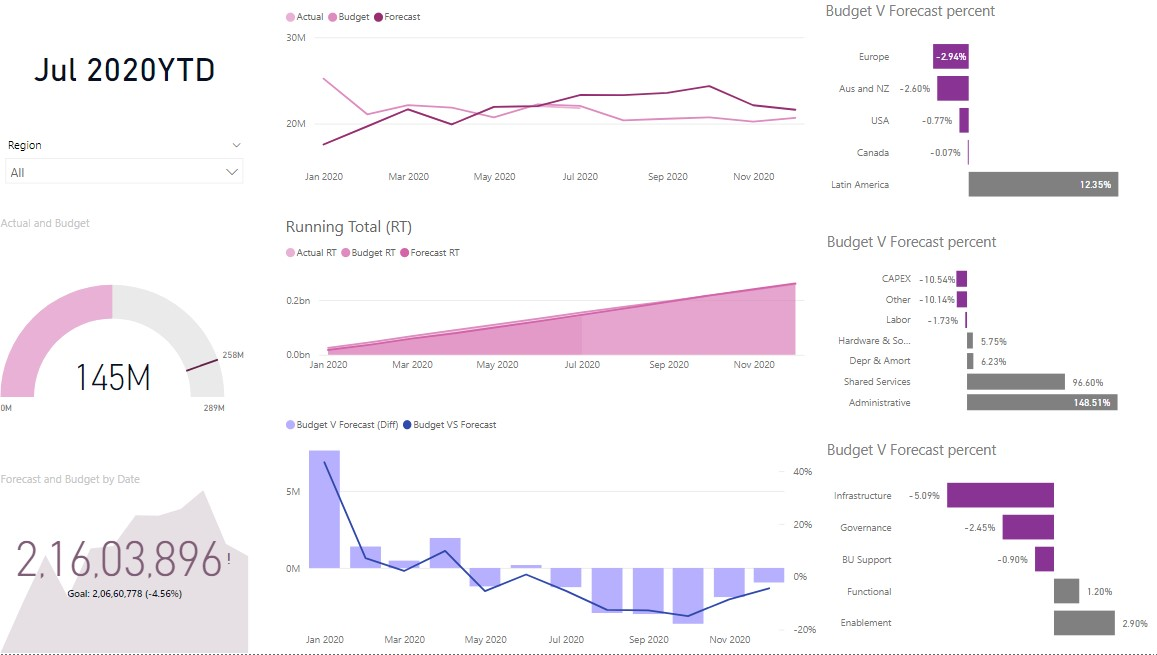

This screenshot's page, from the dashboard's own definition file:
{"tool":"powerbi","page":{"name":"Headline","canvas":[1280,720],"ordinal":0},"visuals":[{"type":"gauge","title":"Actual and Budget","fields":{"Y":["Sum(Actuals.Actual)"],"TargetValue":["Sum(Budget.Budget)"]},"box":[0,236.2,282.9,281.5],"z":0},{"type":"kpi","fields":{"TrendLine":["Calender.Date"],"Indicator":["Sum(Forecast.Forecast)"],"Goal":["Sum(Budget.Budget)"]},"box":[0,517.8,282.9,204.6],"z":1000},{"type":"lineChart","fields":{"Category":["Calender.Date.Variation.Date Hierarchy.Year","Calender.Date.Variation.Date Hierarchy.Quarter","Calender.Date.Variation.Date Hierarchy.Month"],"Y":["Sum(Actuals.Actual)","Sum(Budget.Budget)","Sum(Forecast.Forecast)"]},"box":[313.5,0,593.9,211.7],"z":2000},{"type":"areaChart","title":"Running Total (RT)","fields":{"Y":["Actuals.Actual RT","Budget.Budget RT","Forecast.Forecast RT"],"Category":["Calender.Date.Variation.Date Hierarchy.Year","Calender.Date.Variation.Date Hierarchy.Quarter","Calender.Date.Variation.Date Hierarchy.Month","Calender.Date.Variation.Date Hierarchy.Day"]},"box":[313.5,236.5,593.9,181.5],"z":3000},{"type":"lineClusteredColumnComboChart","fields":{"Category":["Calender.Date"],"Y2":["Budget.Budget VS Forecast"],"Y":["Budget.Budget V Forecast (Diff)"]},"box":[313.5,448.2,593.9,272.2],"z":4000},{"type":"clusteredBarChart","title":"Budget V Forecast percent","fields":{"Category":["Regions.Region"],"Y":["Budget.Budget VS Forecast"]},"box":[907.4,0,372.6,236.5],"z":5000},{"type":"clusteredBarChart","title":"Budget V Forecast percent","fields":{"Category":["CostElements.Cost Element Group"],"Y":["Budget.Budget VS Forecast"]},"box":[908.8,254.4,371.2,211.7],"z":6000},{"type":"clusteredBarChart","title":"Budget V Forecast percent","fields":{"Category":["Departments.IT Area"],"Y":["Budget.Budget VS Forecast"]},"box":[908.8,482.6,371.2,236.5],"z":7000},{"type":"slicer","fields":{"Values":["Regions.Region"]},"box":[0,145.4,282.3,65.9],"z":8000},{"type":"card","fields":{"Values":["Actuals.YTD Month"]},"box":[0,0,283.2,145.7],"z":9000}]}

Visuals, with their boxes in screenshot pixels (x1, y1, x2, y2), scaled from the page's 1280x720 canvas onto the 1157x655 screenshot:
"Actual and Budget" gauge: BBox(0, 215, 256, 471)
kpi - Calender.Date x Sum(Forecast.Forecast): BBox(0, 471, 256, 654)
lineChart - Calender.Date.Variation.Date Hierarchy.Year x Calender.Date.Variation.Date Hierarchy.Quarter: BBox(283, 0, 820, 193)
"Running Total (RT)" areaChart: BBox(283, 215, 820, 380)
lineClusteredColumnComboChart - Calender.Date x Budget.Budget VS Forecast: BBox(283, 408, 820, 654)
"Budget V Forecast percent" clusteredBarChart: BBox(820, 0, 1156, 215)
"Budget V Forecast percent" clusteredBarChart: BBox(821, 231, 1156, 424)
"Budget V Forecast percent" clusteredBarChart: BBox(821, 439, 1156, 654)
slicer - Regions.Region: BBox(0, 132, 255, 192)
card - Actuals.YTD Month: BBox(0, 0, 256, 133)
